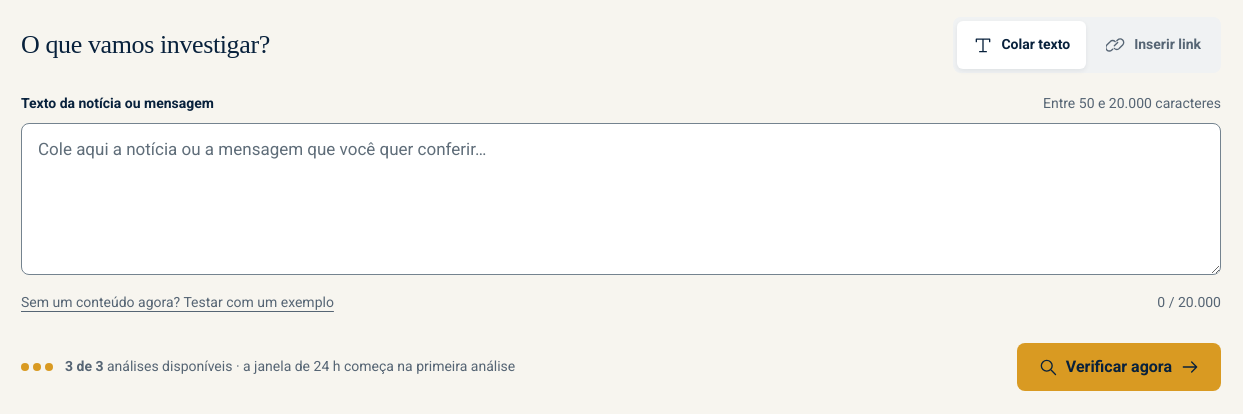
validação no navegador (RF01, RF27) › endereço "": mostra "Falta o endereço da notícia." e leva o foco ao campo
What coordinates should you click on to do the following:
click the tab "Inserir link"
I would click on:
 (1154, 45)
Its box is [1090,21,1217,69].
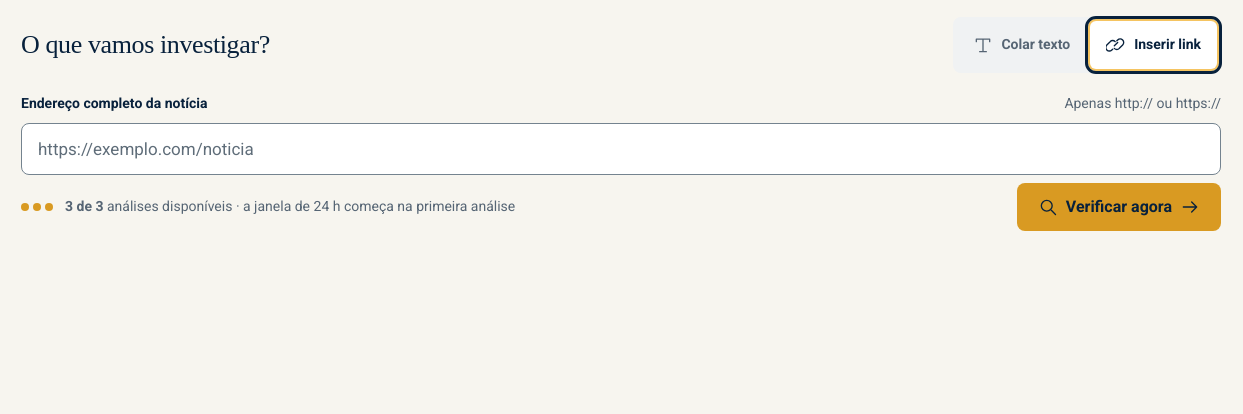
What coordinates should you click on to do the following:
click the button "Verificar agora"
I would click on:
 (1119, 207)
Its box is [1017,183,1221,231].
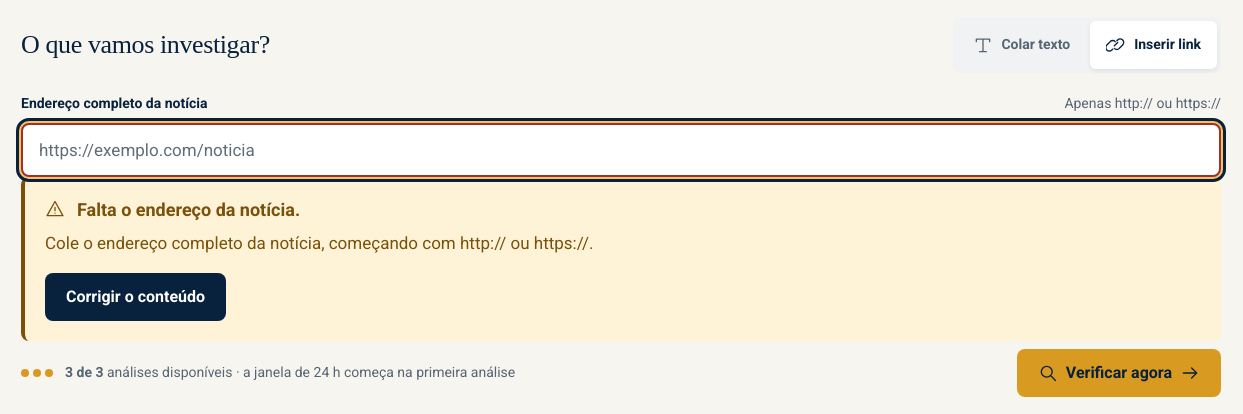
Expected: the message is shown, [45,199,593,253]
Expected: the message shows "Falta o endereço da notícia.", [77,199,300,220]
